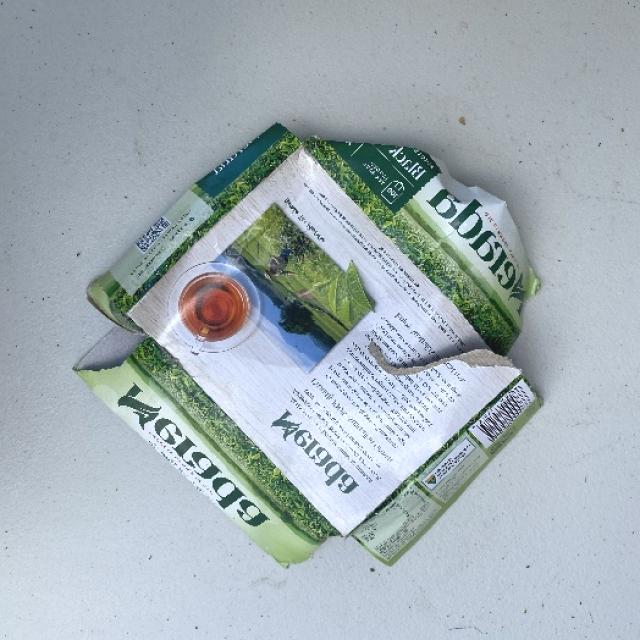kertas: (110, 127, 574, 524)
